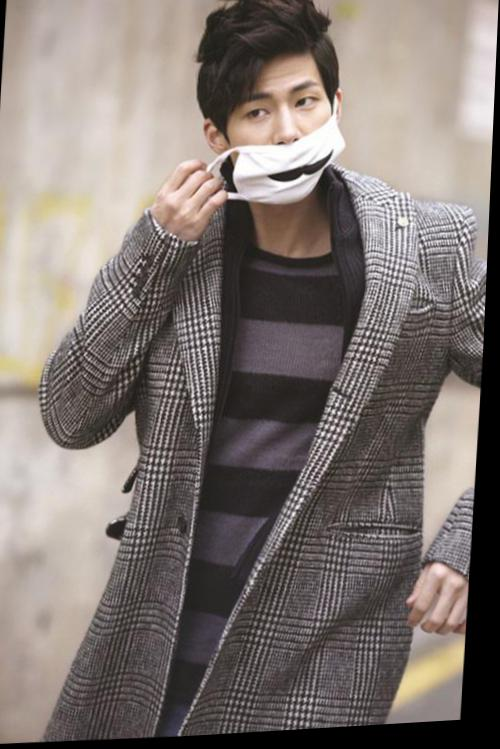WRONG: (214, 74, 350, 211)
